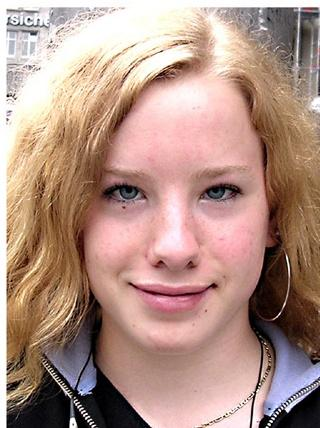No Mask: (52, 43, 298, 378)
